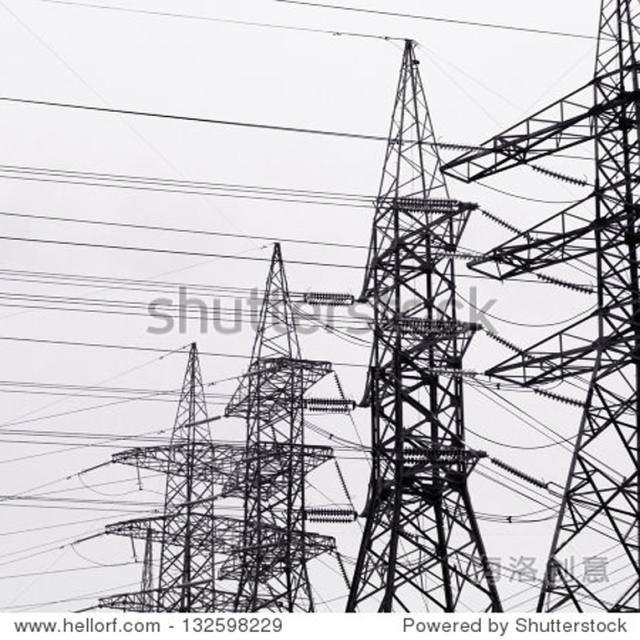non-critical vegetation: (346, 38, 493, 588), (527, 39, 635, 608), (228, 246, 338, 588), (143, 307, 230, 588)
